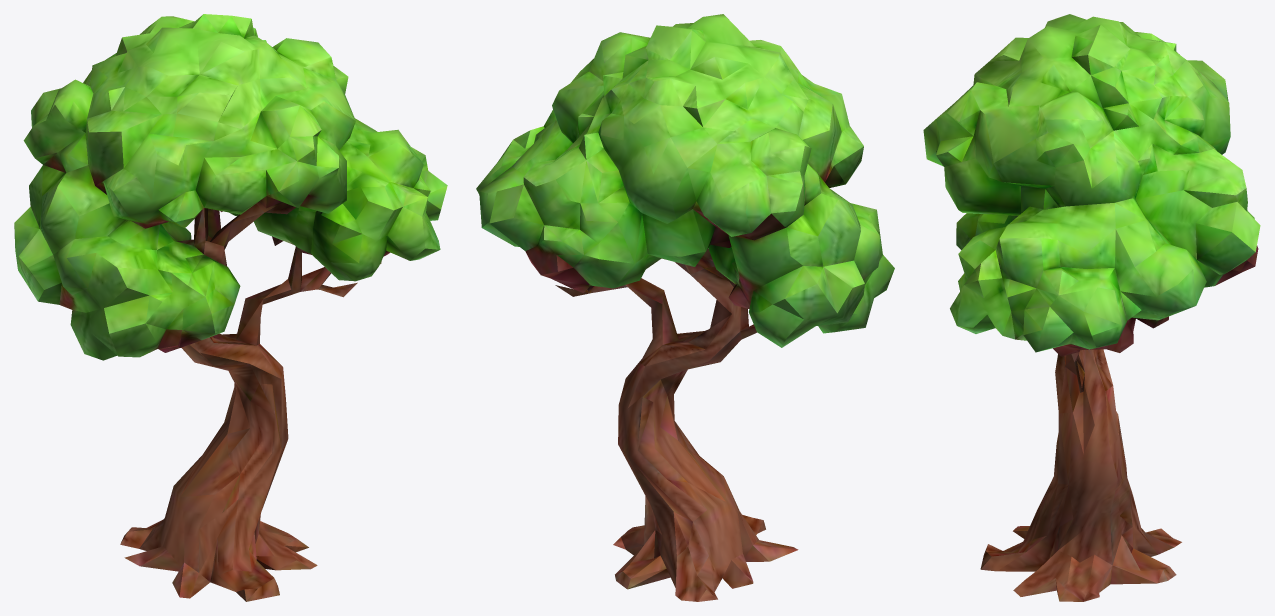
Rendered from tree_cartoon_green_a_lod1.glb.
The picture shows the model from 3 angles, left to right: view 1: azimuth 30°, elevation 25°; view 2: azimuth 150°, elevation 25°; view 3: azimuth 270°, elevation 25°; orthographic projection.
Visible parts, largest first — view 1: tree_cartoon_green_a_lod1; view 2: tree_cartoon_green_a_lod1; view 3: tree_cartoon_green_a_lod1.
Boxes of the visible parts, x1,y1,x2,y2 form: tree_cartoon_green_a_lod1: (14, 14, 447, 601); tree_cartoon_green_a_lod1: (476, 14, 894, 601); tree_cartoon_green_a_lod1: (923, 14, 1260, 601).
Size of the model in its own units: 5.29 by 7.02 by 3.99.
Materials: 1 (1 with a texture image).
